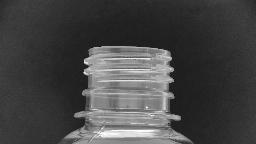No Cap: (68, 40, 186, 126)
